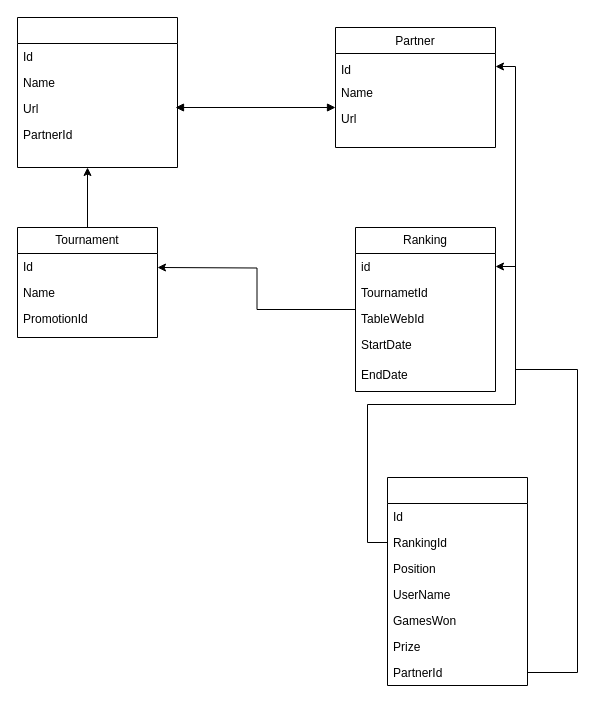
Image size: 603x706. Some labels were removed from this diagram. Each missing label, with the box of its shape:
Postion: (386, 476, 528, 686)
Promotion: (16, 16, 178, 168)
